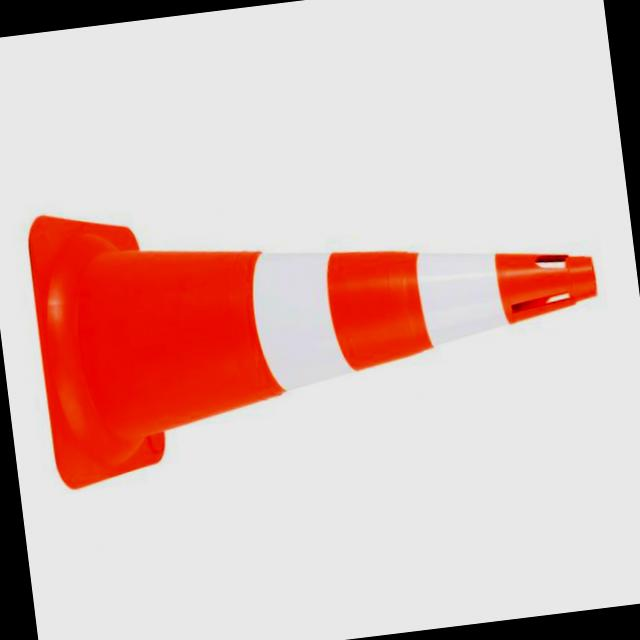cone: (19, 144, 630, 501)
